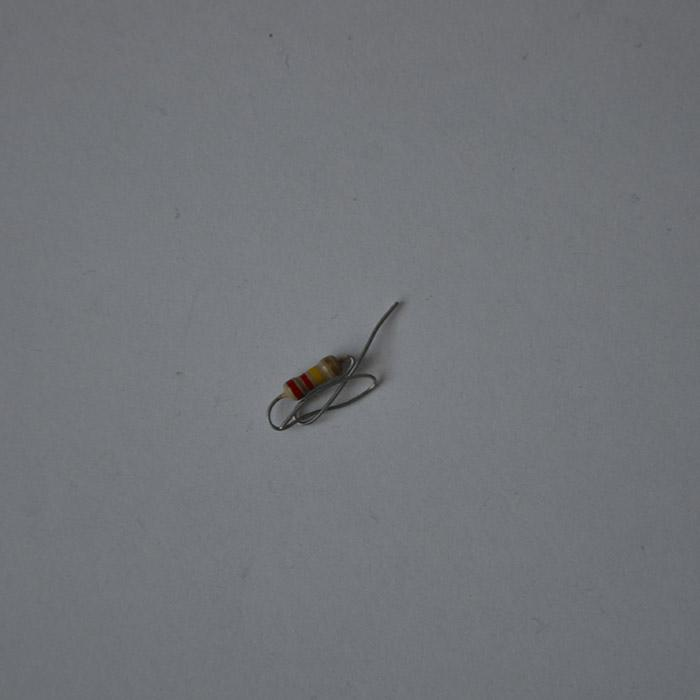resistor: (279, 355, 344, 401)
